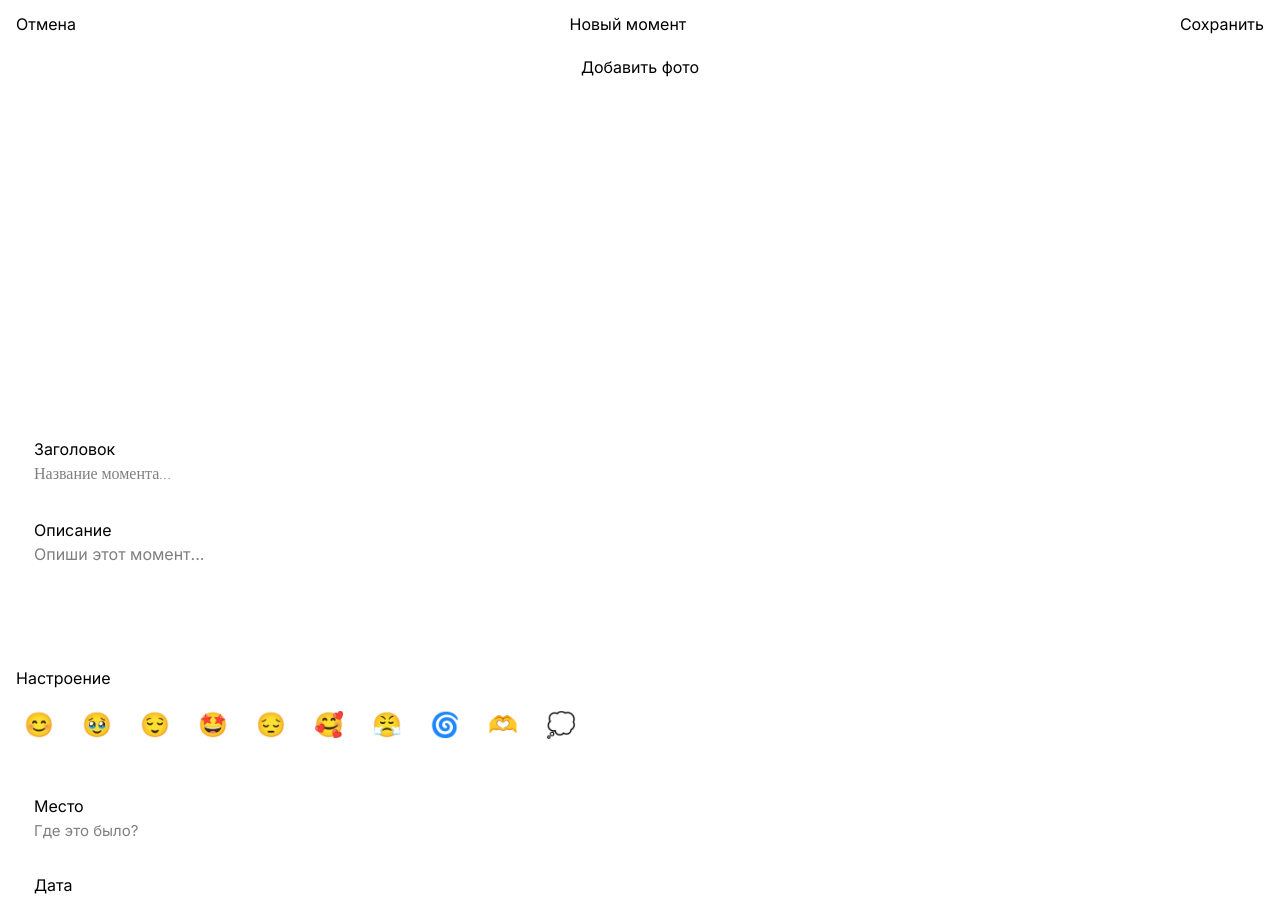
AddMoment › показывает ошибку если saveMoment бросает исключение
(page scrolled)
Type "Fail test" into the field with placeholder "Название момента...". click: (640, 480)
box: [34,462,1246,498]
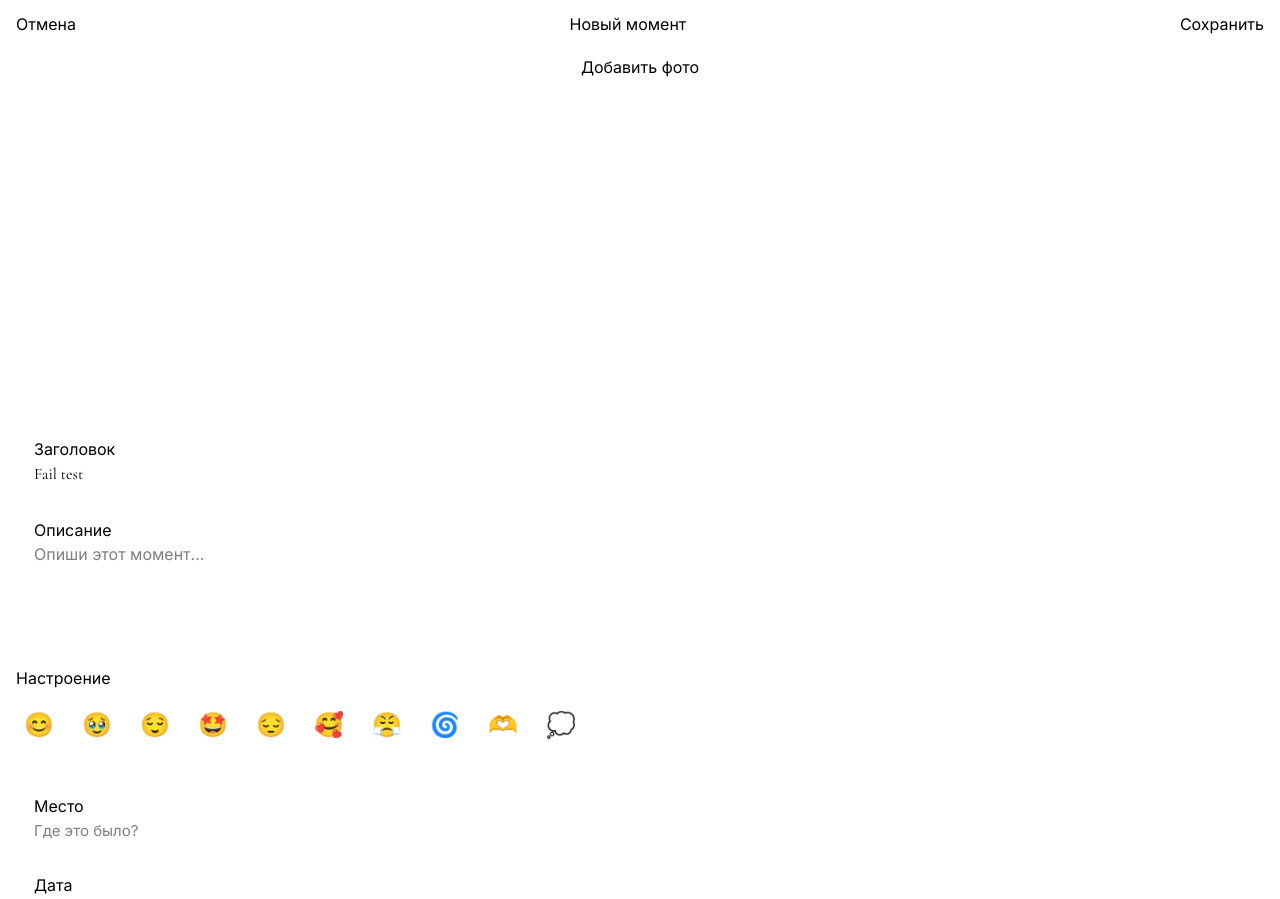
Click the button "Сохранить". click: (1222, 24)
box: [1180,12,1264,36]
(page scrolled)
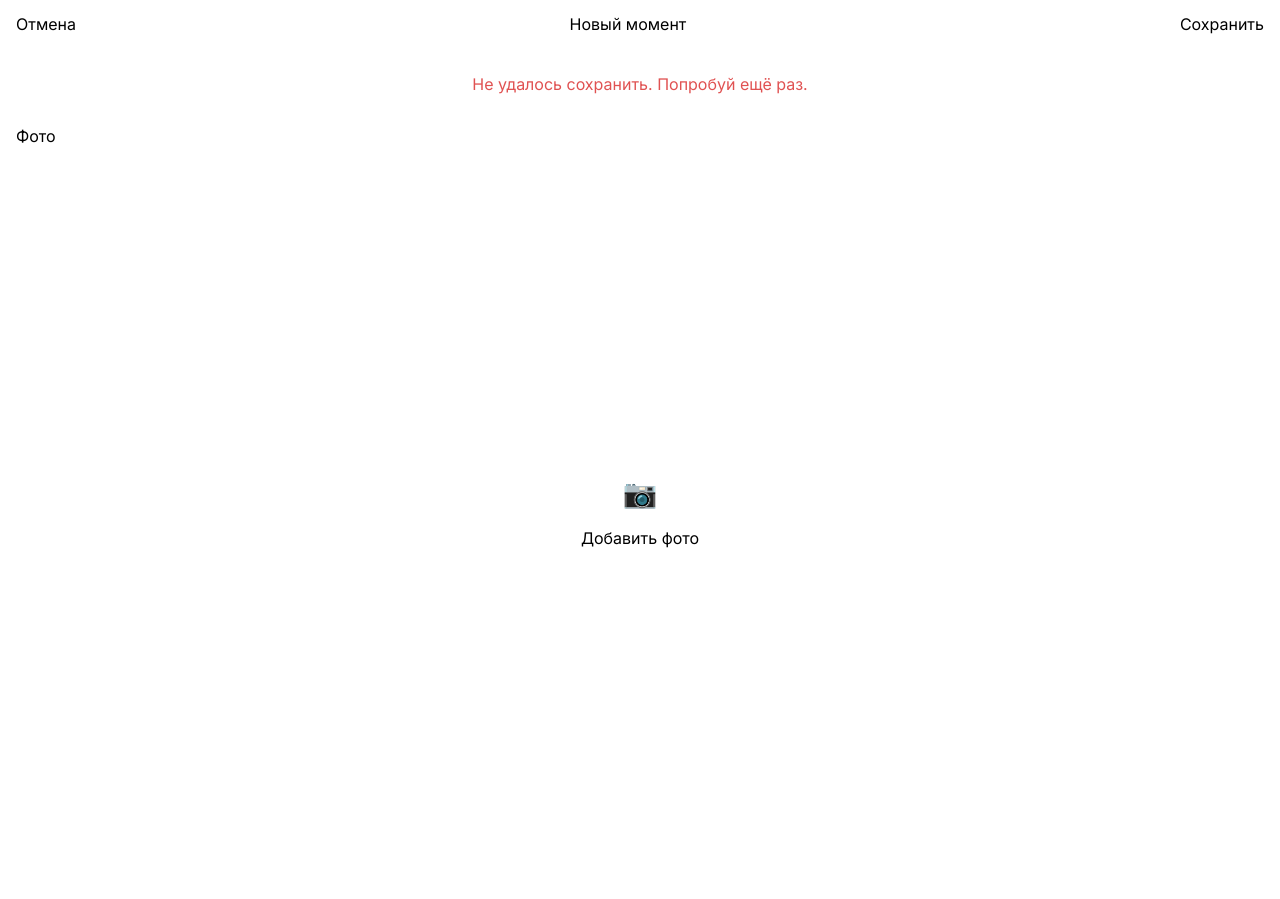
Expected: the text "Не удалось сохранить. Попробуй ещё раз." is shown, [472,74,808,94]
